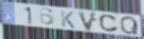1: (24, 7, 34, 26)
6: (39, 7, 55, 28)
C: (98, 14, 120, 33)
K: (60, 10, 77, 30)
Q: (120, 16, 140, 35)
V: (77, 10, 99, 32)
